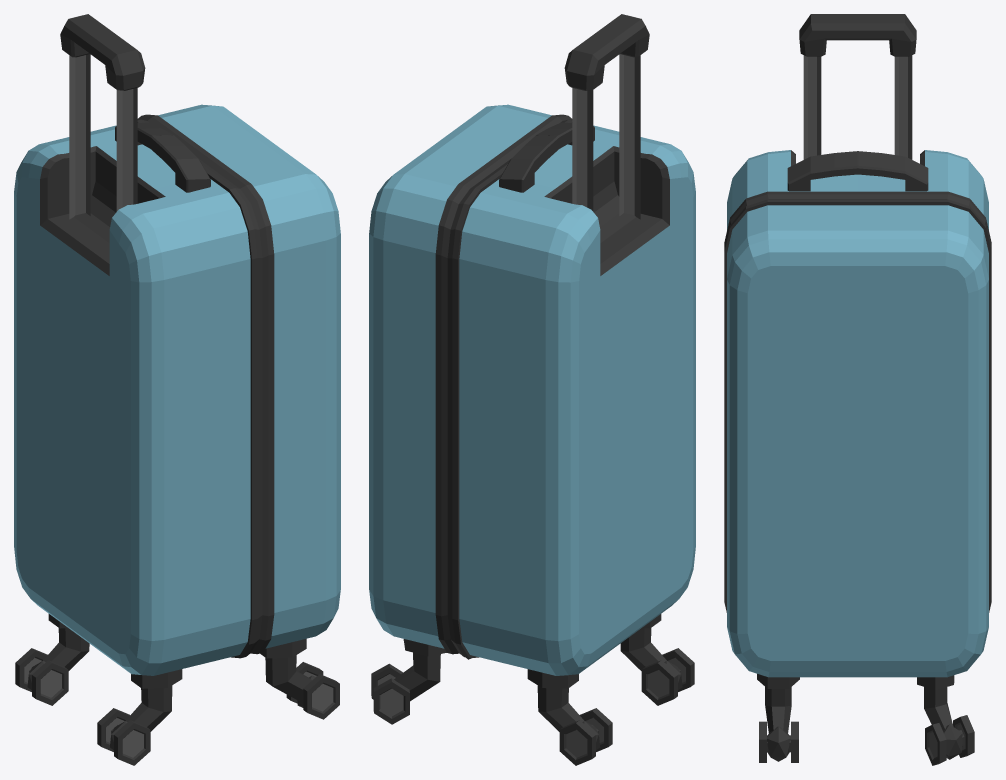
The model's file is hardshell-spinner-cobalt.glb.
3 renders of one model, left to right at view 1: azimuth 30°, elevation 25°; view 2: azimuth 150°, elevation 25°; view 3: azimuth 270°, elevation 25°, orthographic. The views are drawn at different scales.
Visible parts, largest first — view 1: Suitcase; view 2: Suitcase; view 3: Suitcase.
Boxes of the visible parts, <box> form: Suitcase: <box>14,14,340,765</box>; Suitcase: <box>369,14,695,765</box>; Suitcase: <box>724,14,991,765</box>.
Size of the model in its own units: 0.5591 by 1.6 by 0.5854.
